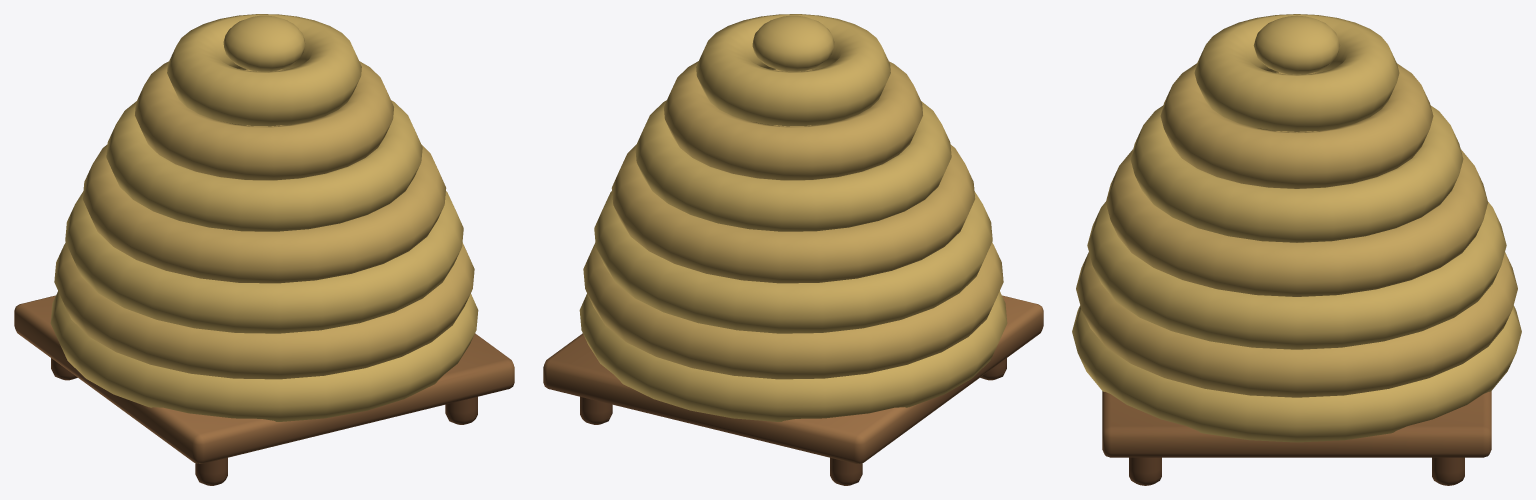
Rendered from bienenstock.glb.
The picture shows the model from 3 angles, left to right: view 1: azimuth 30°, elevation 25°; view 2: azimuth 150°, elevation 25°; view 3: azimuth 270°, elevation 25°; orthographic projection. The views are drawn at different scales.
Parts seen in each view (by area): view 1: bienenstock-matt; view 2: bienenstock-matt; view 3: bienenstock-matt.
Part boxes in pixels (bbox=[...]): bienenstock-matt: bbox=[14, 14, 514, 485]; bienenstock-matt: bbox=[543, 14, 1043, 485]; bienenstock-matt: bbox=[1072, 14, 1521, 485].
Size of the model in its own units: 1.04 by 1.01 by 1.04.
